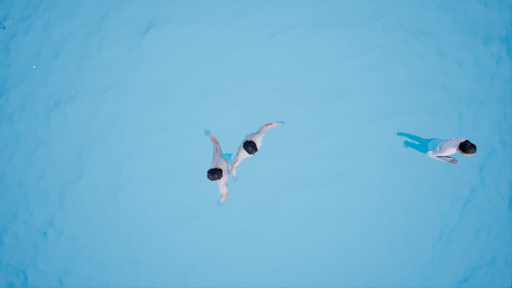person: (222, 110, 288, 183), (385, 125, 489, 171), (191, 126, 240, 208)
